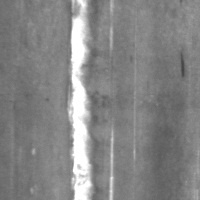inclusion: (177, 50, 189, 82)
scratches: (65, 0, 98, 199), (105, 124, 118, 199), (105, 0, 118, 60)
